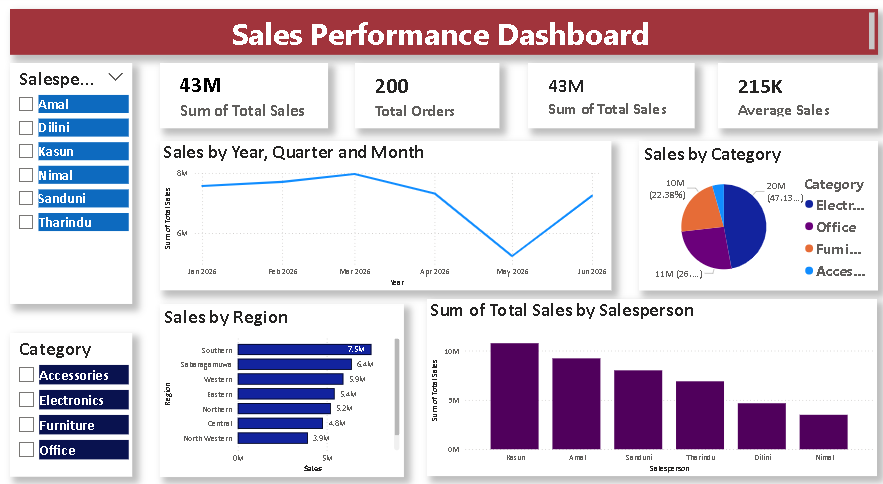

The page's visual inventory and layout, read from the dashboard file:
{"tool":"powerbi","page":{"name":"Page 1","canvas":[1280,720],"ordinal":0},"visuals":[{"type":"textbox","box":[18.7,20.2,1249.9,66.2],"z":0},{"type":"cardVisual","fields":{"Data":["Sum(Sales_Data.Total Sales)"]},"box":[235.2,97.4,241.9,94.1],"z":1000},{"type":"cardVisual","fields":{"Data":["Sales_Data.Total Orders"]},"box":[515.7,97.4,208.3,94.1],"z":2000},{"type":"cardVisual","fields":{"Data":["Sum(Sales_Data.Total Sales)"]},"box":[764.3,97.4,240.2,94.1],"z":3000},{"type":"cardVisual","fields":{"Data":["Sales_Data.Average Sales"]},"box":[1038.1,97.4,230.1,94.1],"z":4000},{"type":"clusteredBarChart","title":" Sales by Region","fields":{"Category":["Sales_Data.Region"],"Y":["Sum(Sales_Data.Total Sales)"]},"box":[235.2,445.1,351.1,248.6],"z":5000},{"type":"pieChart","title":"Sales by Category","fields":{"Category":["Sales_Data.Category"],"Y":["Sum(Sales_Data.Total Sales)"]},"box":[923.9,210,344.4,215],"z":6000},{"type":"lineChart","title":" Sales by Year, Quarter and Month","fields":{"Y":["Sum(Sales_Data.Total Sales)"],"Category":["Sales_Data.Date.Variation.Date Hierarchy.Year","Sales_Data.Date.Variation.Date Hierarchy.Quarter","Sales_Data.Date.Variation.Date Hierarchy.Month"]},"box":[235.2,210,650.1,215],"z":7000},{"type":"clusteredColumnChart","fields":{"Category":["Sales_Data.Salesperson"],"Y":["Sum(Sales_Data.Total Sales)"]},"box":[619.8,438.4,648.4,255.3],"z":8000},{"type":"slicer","fields":{"Values":["Sales_Data.Salesperson"]},"box":[18.7,97.9,175.7,347],"z":9000},{"type":"slicer","fields":{"Values":["Sales_Data.Category"]},"box":[18.7,486.7,175.7,207.4],"z":10000}]}

Visuals, with their boxes in screenshot pixels (x1, y1, x2, y2), scaled from the page's 1280x720 canvas onto the 883x484 screenshot:
textbox: {"left": 13, "top": 14, "right": 875, "bottom": 58}
cardVisual - Sum(Sales_Data.Total Sales): {"left": 162, "top": 65, "right": 329, "bottom": 129}
cardVisual - Sales_Data.Total Orders: {"left": 356, "top": 65, "right": 499, "bottom": 129}
cardVisual - Sum(Sales_Data.Total Sales): {"left": 527, "top": 65, "right": 693, "bottom": 129}
cardVisual - Sales_Data.Average Sales: {"left": 716, "top": 65, "right": 875, "bottom": 129}
" Sales by Region" clusteredBarChart: {"left": 162, "top": 299, "right": 404, "bottom": 466}
"Sales by Category" pieChart: {"left": 637, "top": 141, "right": 875, "bottom": 286}
" Sales by Year, Quarter and Month" lineChart: {"left": 162, "top": 141, "right": 611, "bottom": 286}
clusteredColumnChart - Sales_Data.Salesperson x Sum(Sales_Data.Total Sales): {"left": 428, "top": 295, "right": 875, "bottom": 466}
slicer - Sales_Data.Salesperson: {"left": 13, "top": 66, "right": 134, "bottom": 299}
slicer - Sales_Data.Category: {"left": 13, "top": 327, "right": 134, "bottom": 467}
